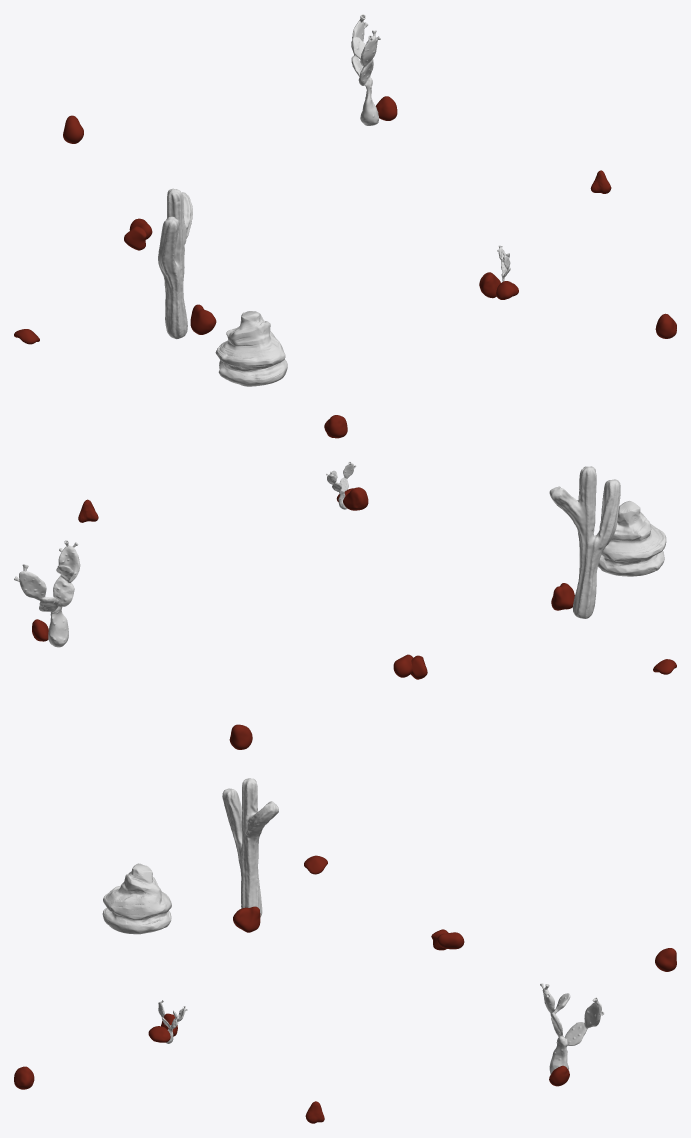
File: HighPoly_Cactus_Rocks.fbx
The picture shows the model from 3 angles, top to bottom: view 1: azimuth 30°, elevation 25°; view 2: azimuth 150°, elevation 25°; view 3: azimuth 270°, elevation 25°; orthographic projection. The views are drawn at different scales.
Parts seen in each view (by area): view 1: Desert Rock 2_highpoly, Desert Rock_highpoly, cactus 1_highpoly, cactus 2_highpoly; view 2: cactus 1_highpoly, Desert Rock 2_highpoly, Desert Rock_highpoly, cactus 2_highpoly, cactus 3_highpoly; view 3: cactus 1_highpoly, Desert Rock_highpoly, Desert Rock 2_highpoly, cactus 2_highpoly.
Part boxes in pixels (bbox=[...]): Desert Rock 2_highpoly: bbox=[14, 96, 676, 344]; Desert Rock_highpoly: bbox=[215, 311, 287, 386]; cactus 1_highpoly: bbox=[158, 188, 192, 339]; cactus 2_highpoly: bbox=[351, 14, 380, 125]; cactus 1_highpoly: bbox=[549, 466, 620, 618]; Desert Rock 2_highpoly: bbox=[32, 415, 676, 749]; Desert Rock_highpoly: bbox=[598, 501, 666, 576]; cactus 2_highpoly: bbox=[14, 540, 80, 647]; cactus 3_highpoly: bbox=[326, 462, 356, 509]; cactus 1_highpoly: bbox=[222, 778, 278, 917]; Desert Rock_highpoly: bbox=[102, 863, 171, 934]; Desert Rock 2_highpoly: bbox=[14, 855, 676, 1123]; cactus 2_highpoly: bbox=[540, 983, 604, 1074].
Size of the model in its own units: 1962 by 483 by 2041.
